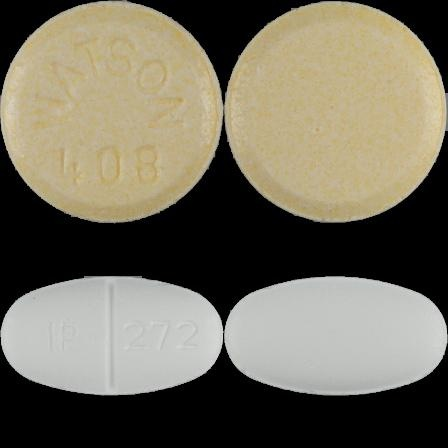61786-969: (0, 0, 224, 224)
